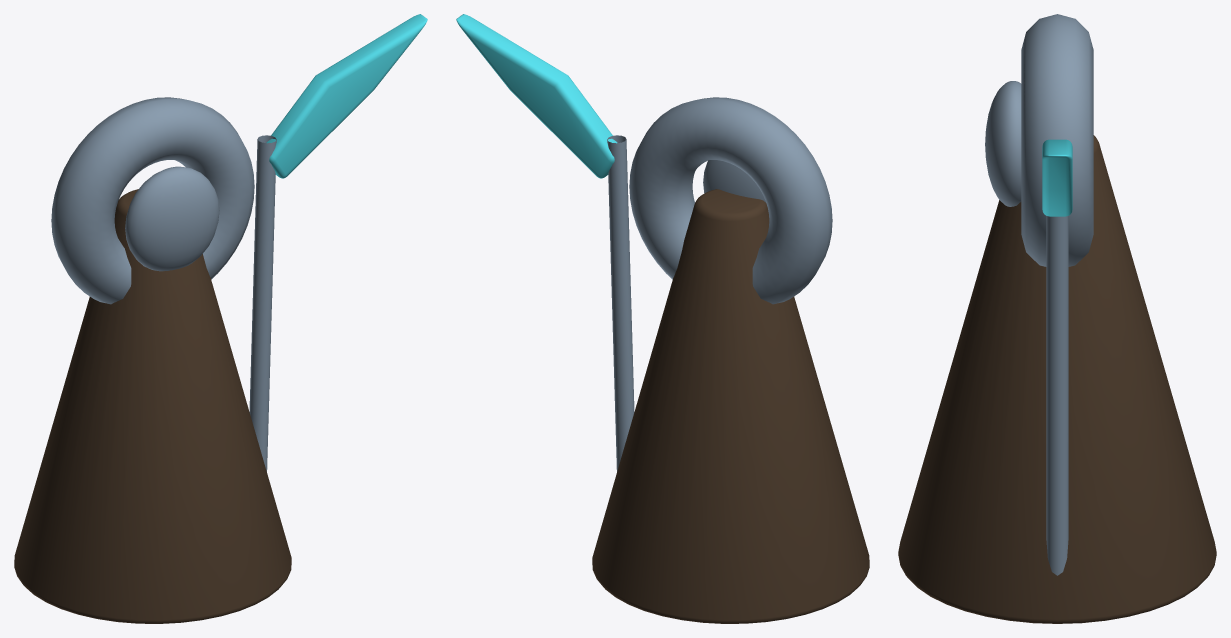
Rendered from wraith_v5.glb.
The picture shows the model from 3 angles, left to right: view 1: azimuth 30°, elevation 25°; view 2: azimuth 150°, elevation 25°; view 3: azimuth 270°, elevation 25°; orthographic projection. The views are drawn at different scales.
Visible parts, largest first — view 1: REAPER_ROBE_SECONDARY, REAPER_HOOD_PRIMARY, REAPER_BLADE_ACCENT, REAPER_VOID_PRIMARY, REAPER_SCYTHE_POLE_PRIMARY; view 2: REAPER_ROBE_SECONDARY, REAPER_HOOD_PRIMARY, REAPER_BLADE_ACCENT, REAPER_SCYTHE_POLE_PRIMARY, REAPER_VOID_PRIMARY; view 3: REAPER_ROBE_SECONDARY, REAPER_HOOD_PRIMARY, REAPER_SCYTHE_POLE_PRIMARY, REAPER_VOID_PRIMARY, REAPER_BLADE_ACCENT.
Boxes of the visible parts, x1=… form: REAPER_ROBE_SECONDARY: x1=14, y1=189, x2=291, y2=623; REAPER_HOOD_PRIMARY: x1=51, y1=97, x2=254, y2=304; REAPER_BLADE_ACCENT: x1=266, y1=14, x2=427, y2=178; REAPER_VOID_PRIMARY: x1=125, y1=166, x2=219, y2=271; REAPER_SCYTHE_POLE_PRIMARY: x1=249, y1=135, x2=276, y2=471; REAPER_ROBE_SECONDARY: x1=592, y1=189, x2=869, y2=623; REAPER_HOOD_PRIMARY: x1=629, y1=97, x2=832, y2=304; REAPER_BLADE_ACCENT: x1=456, y1=14, x2=617, y2=178; REAPER_SCYTHE_POLE_PRIMARY: x1=607, y1=135, x2=634, y2=471; REAPER_VOID_PRIMARY: x1=703, y1=160, x2=765, y2=202; REAPER_ROBE_SECONDARY: x1=898, y1=135, x2=1216, y2=623; REAPER_HOOD_PRIMARY: x1=1021, y1=14, x2=1093, y2=266; REAPER_SCYTHE_POLE_PRIMARY: x1=1046, y1=216, x2=1068, y2=575; REAPER_VOID_PRIMARY: x1=985, y1=81, x2=1021, y2=206; REAPER_BLADE_ACCENT: x1=1042, y1=139, x2=1072, y2=216.
Bounding box in the file's own units: 2.57 × 3.04 × 1.58.
